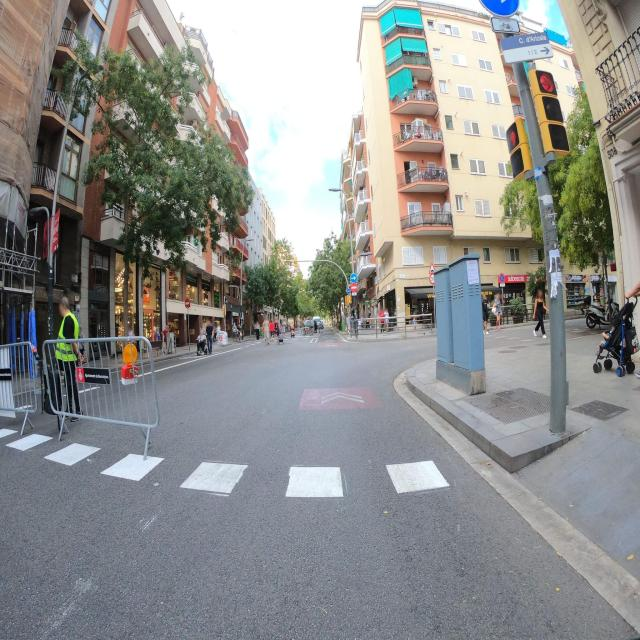bike: (585, 295, 619, 330)
